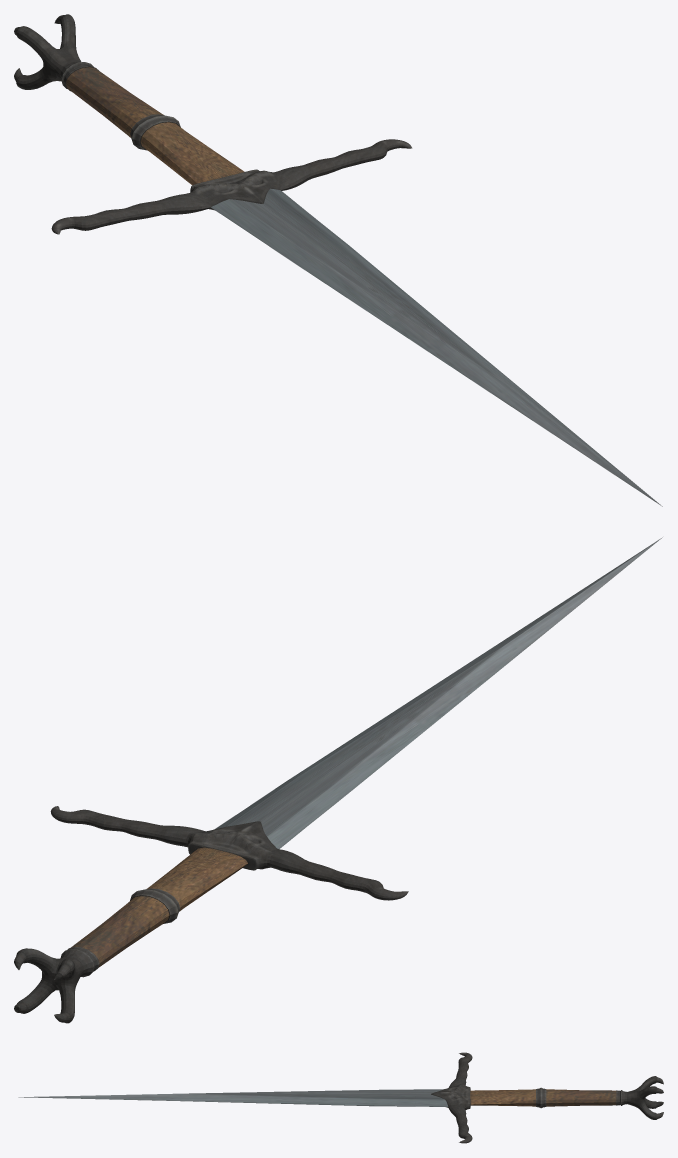
Rendered from durza.obj.
3 views of the same model, one above another, from view 1: azimuth 30°, elevation 25°; view 2: azimuth 150°, elevation 25°; view 3: azimuth 270°, elevation 25° (orthographic). The views are drawn at different scales.
Visible parts, largest first — view 1: durza; view 2: durza; view 3: durza.
Part boxes in pixels (x1,y1,x2,y2): durza: (14, 14, 662, 506); durza: (14, 537, 662, 1023); durza: (18, 1052, 663, 1143).
Bounding box in the file's own units: 10.01 × 1.73 × 30.69.
1 material, 1 textured.
